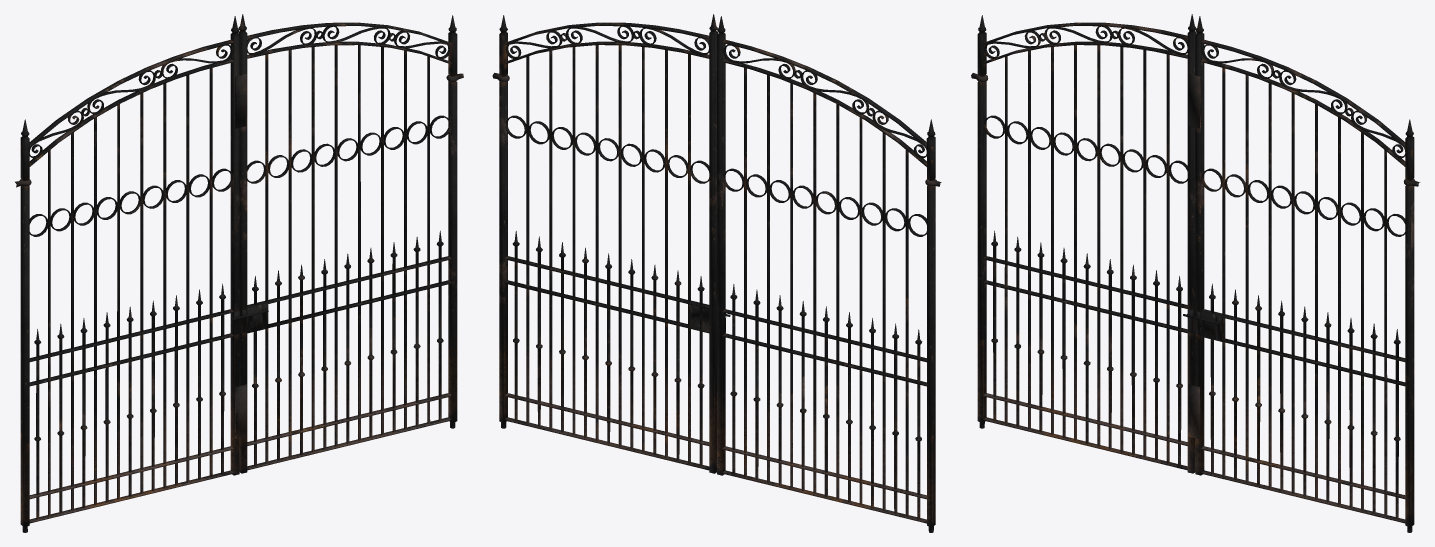
Rendered from large_iron_gate.glb.
The picture shows the model from 3 angles, left to right: view 1: azimuth 30°, elevation 25°; view 2: azimuth 150°, elevation 25°; view 3: azimuth 330°, elevation 25°; orthographic projection.
Visible parts, largest first — view 1: large_iron_gate_right_door, large_iron_gate_left_door; view 2: large_iron_gate_left_door, large_iron_gate_right_door; view 3: large_iron_gate_right_door, large_iron_gate_left_door.
Boxes of the visible parts, <box> form: large_iron_gate_right_door: <box>235,14,457,473</box>; large_iron_gate_left_door: <box>20,16,240,532</box>; large_iron_gate_left_door: <box>717,16,935,532</box>; large_iron_gate_right_door: <box>499,14,717,473</box>; large_iron_gate_right_door: <box>1188,16,1414,532</box>; large_iron_gate_left_door: <box>977,14,1196,473</box>.
Size of the model in its own units: 2.95 by 2.93 by 0.097.
1 material, 1 textured.
